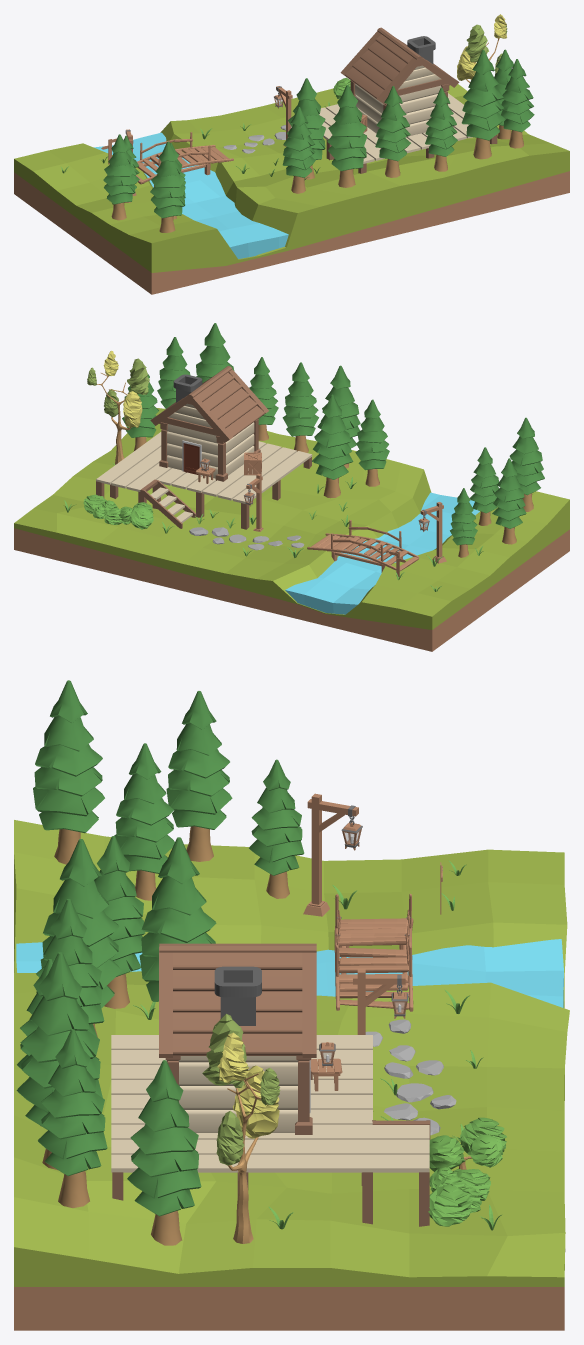
3 renders of one model, top to bottom at view 1: azimuth 30°, elevation 25°; view 2: azimuth 150°, elevation 25°; view 3: azimuth 270°, elevation 25°, orthographic. The views are drawn at different scales.
Visible parts, largest first — view 1: Ground_21, Roof_19, River_30, Tree.007_45, Tree.001_40, Tree.009_49, Floor & stairs_24, Tree.004_43, Tree.008_46, Tree.003_42, Tree.011_51, Bridge_28 (+6 smaller); view 2: Ground_21, Roof_19, Floor & stairs_24, River_30, Tree_39, Tree.002_41, Bridge_28, Tree.004_43, Tree.003_42, Tree.009_49, Tree.011_51, Tree.010_50 (+12 smaller); view 3: Ground_21, Roof_19, Floor & stairs_24, River_30, Tree.005_53, Tree.009_49, Tree.002_41, Tree.008_46, Tree.011_51, Tree.007_45, Bridge_28, Tree_39 (+11 smaller).
Boxes of the visible parts, left/top/right/bottom form: Ground_21: left=14, top=84, right=569, bottom=294; Roof_19: left=340, top=27, right=459, bottom=136; River_30: left=94, top=132, right=288, bottom=258; Tree.007_45: left=461, top=50, right=504, bottom=159; Tree.001_40: left=327, top=85, right=366, bottom=187; Tree.009_49: left=150, top=141, right=185, bottom=232; Floor & stairs_24: left=319, top=93, right=497, bottom=173; Tree.004_43: left=375, top=86, right=410, bottom=177; Tree.008_46: left=501, top=59, right=534, bottom=148; Tree.003_42: left=282, top=107, right=315, bottom=193; Tree.011_51: left=103, top=134, right=135, bottom=220; Bridge_28: left=136, top=132, right=233, bottom=186; Ground_21: left=14, top=408, right=569, bottom=651; Roof_19: left=150, top=366, right=268, bottom=481; Floor & stairs_24: left=96, top=432, right=312, bottom=529; River_30: left=285, top=492, right=479, bottom=614; Tree_39: left=312, top=395, right=353, bottom=498; Tree.002_41: left=87, top=350, right=149, bottom=464; Bridge_28: left=307, top=520, right=419, bottom=572; Tree.004_43: left=282, top=362, right=318, bottom=452; Tree.003_42: left=355, top=399, right=389, bottom=486; Tree.009_49: left=509, top=417, right=544, bottom=511; Tree.011_51: left=492, top=458, right=526, bottom=544; Tree.010_50: left=469, top=447, right=498, bottom=525; Ground_21: left=14, top=820, right=569, bottom=1330; Roof_19: left=159, top=943, right=316, bottom=1134; Floor & stairs_24: left=111, top=1035, right=430, bottom=1226; River_30: left=16, top=939, right=563, bottom=1007; Tree.005_53: left=127, top=1060, right=201, bottom=1245; Tree.009_49: left=33, top=680, right=104, bottom=864; Tree.002_41: left=202, top=1014, right=280, bottom=1243; Tree.008_46: left=38, top=1029, right=107, bottom=1207; Tree.011_51: left=166, top=691, right=232, bottom=861; Tree.007_45: left=16, top=952, right=102, bottom=1170; Bridge_28: left=334, top=893, right=413, bottom=1011; Tree_39: left=139, top=837, right=216, bottom=1001.
Bounding box in the file's own units: 36.86 × 12.81 × 21.2.
